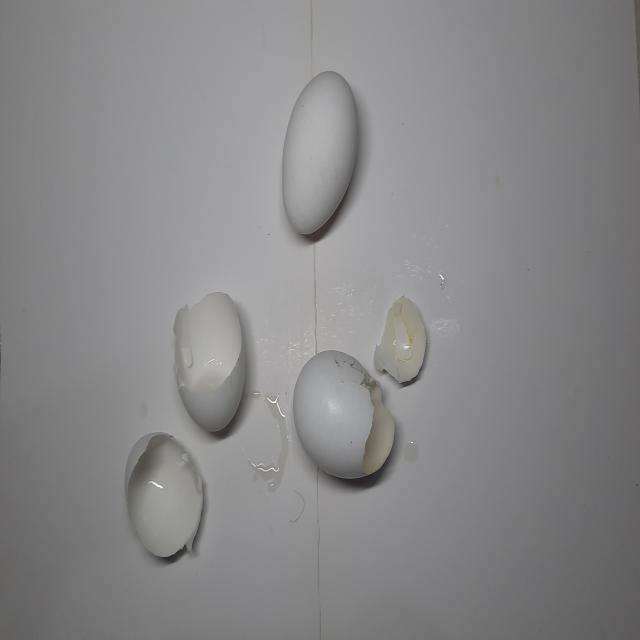egg shell: (278, 64, 362, 248), (291, 349, 400, 487), (168, 287, 251, 440), (119, 426, 207, 570), (371, 291, 429, 387)
